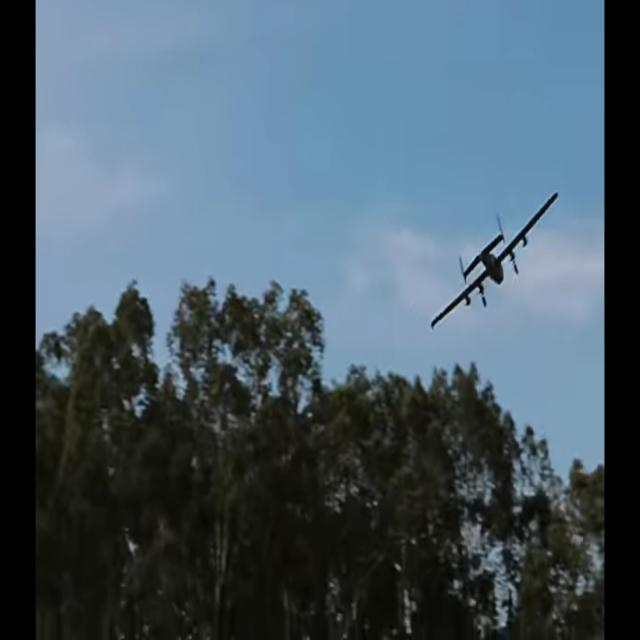iha: (429, 192, 561, 325)
